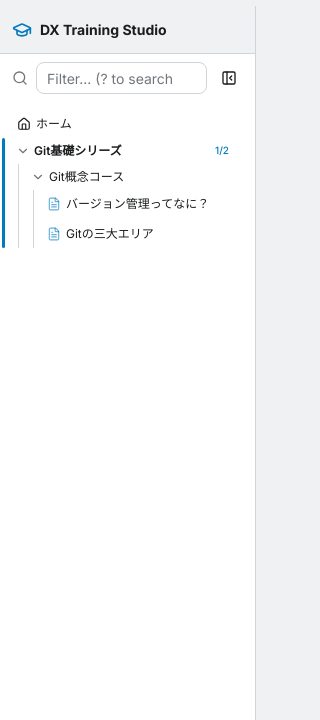
Test: ContentTreePane › chevron クリックは開閉のみで選択を変えない
Click the button named "コースを折りたたむ" at [38, 177], box [29,168,47,186]
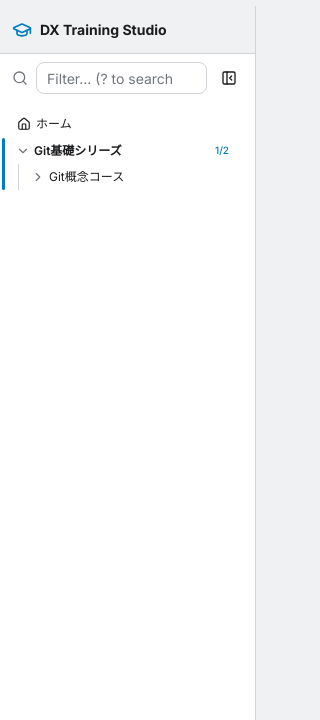
expect the button "Gitの三大エリア" is gone: met
